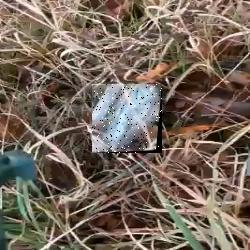restaffald: (92, 84, 162, 153)
